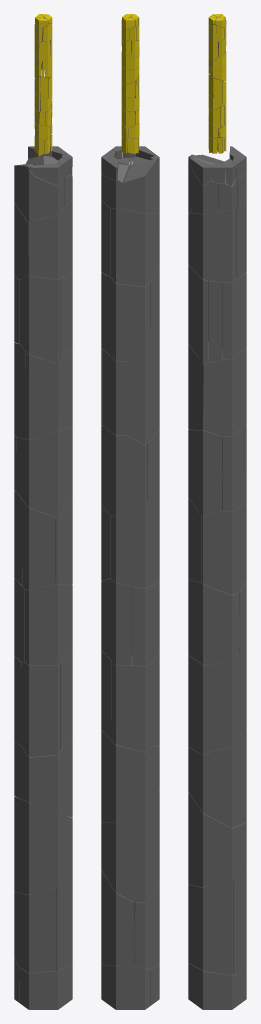
File: tower_fracture.glb
3 renders of one model, left to right at view 1: azimuth 30°, elevation 25°; view 2: azimuth 150°, elevation 25°; view 3: azimuth 330°, elevation 25°, orthographic.
Parts seen in each view (by area): view 1: Tower_cell.033, Tower_cell.023, Tower_cell.031, Tower_cell.019, Tower_cell.046, Tower_cell.004, Tower_cell.077, Tower_cell.057, Tower_cell.083, Tower_cell.018, Tower_cell.097, Tower_cell.021 (+19 smaller); view 2: Tower_cell.033, Tower_cell.004, Tower_cell.047, Tower_cell.044, Tower_cell.001, Tower_cell.026, Tower_cell.061, Tower_cell.067, Tower_cell.030, Tower_cell.025, Tower_cell.053, Tower_cell.068 (+20 smaller); view 3: Tower_cell.004, Tower_cell.033, Tower_cell.031, Tower_cell.034, Tower_cell.057, Tower_cell.070, Tower_cell.021, Tower_cell.023, Tower_cell.003, Tower_cell.097, Tower_cell.019, Tower_cell.010 (+26 smaller).
Boxes of the visible parts, left/top/right/bottom form: Tower_cell.033: left=14, top=796, right=72, bottom=894; Tower_cell.023: left=16, top=429, right=67, bottom=517; Tower_cell.031: left=24, top=583, right=72, bottom=665; Tower_cell.019: left=21, top=662, right=60, bottom=757; Tower_cell.046: left=14, top=888, right=56, bottom=973; Tower_cell.004: left=14, top=736, right=72, bottom=817; Tower_cell.077: left=20, top=275, right=60, bottom=363; Tower_cell.057: left=29, top=200, right=72, bottom=279; Tower_cell.083: left=25, top=351, right=58, bottom=439; Tower_cell.018: left=22, top=500, right=55, bottom=589; Tower_cell.097: left=19, top=964, right=72, bottom=1009; Tower_cell.021: left=56, top=871, right=72, bottom=970; Tower_cell.033: left=101, top=792, right=159, bottom=902; Tower_cell.004: left=101, top=730, right=159, bottom=822; Tower_cell.047: left=110, top=208, right=159, bottom=286; Tower_cell.044: left=101, top=425, right=147, bottom=515; Tower_cell.001: left=111, top=499, right=152, bottom=588; Tower_cell.026: left=107, top=276, right=150, bottom=361; Tower_cell.061: left=117, top=655, right=152, bottom=752; Tower_cell.067: left=127, top=345, right=156, bottom=444; Tower_cell.030: left=101, top=870, right=134, bottom=965; Tower_cell.025: left=101, top=579, right=131, bottom=665; Tower_cell.053: left=101, top=964, right=150, bottom=1009; Tower_cell.068: left=102, top=349, right=127, bottom=435; Tower_cell.004: left=188, top=729, right=246, bottom=828; Tower_cell.033: left=188, top=792, right=246, bottom=887; Tower_cell.031: left=188, top=579, right=239, bottom=665; Tower_cell.034: left=202, top=505, right=246, bottom=595; Tower_cell.057: left=188, top=208, right=236, bottom=282; Tower_cell.070: left=208, top=653, right=241, bottom=752; Tower_cell.021: left=202, top=881, right=233, bottom=974; Tower_cell.023: left=188, top=429, right=222, bottom=516; Tower_cell.003: left=204, top=350, right=239, bottom=436; Tower_cell.097: left=188, top=963, right=237, bottom=1009; Tower_cell.019: left=188, top=655, right=207, bottom=754; Tower_cell.010: left=222, top=428, right=243, bottom=510.
Size of the model in its own units: 0.1088 by 2.33 by 0.1256.
